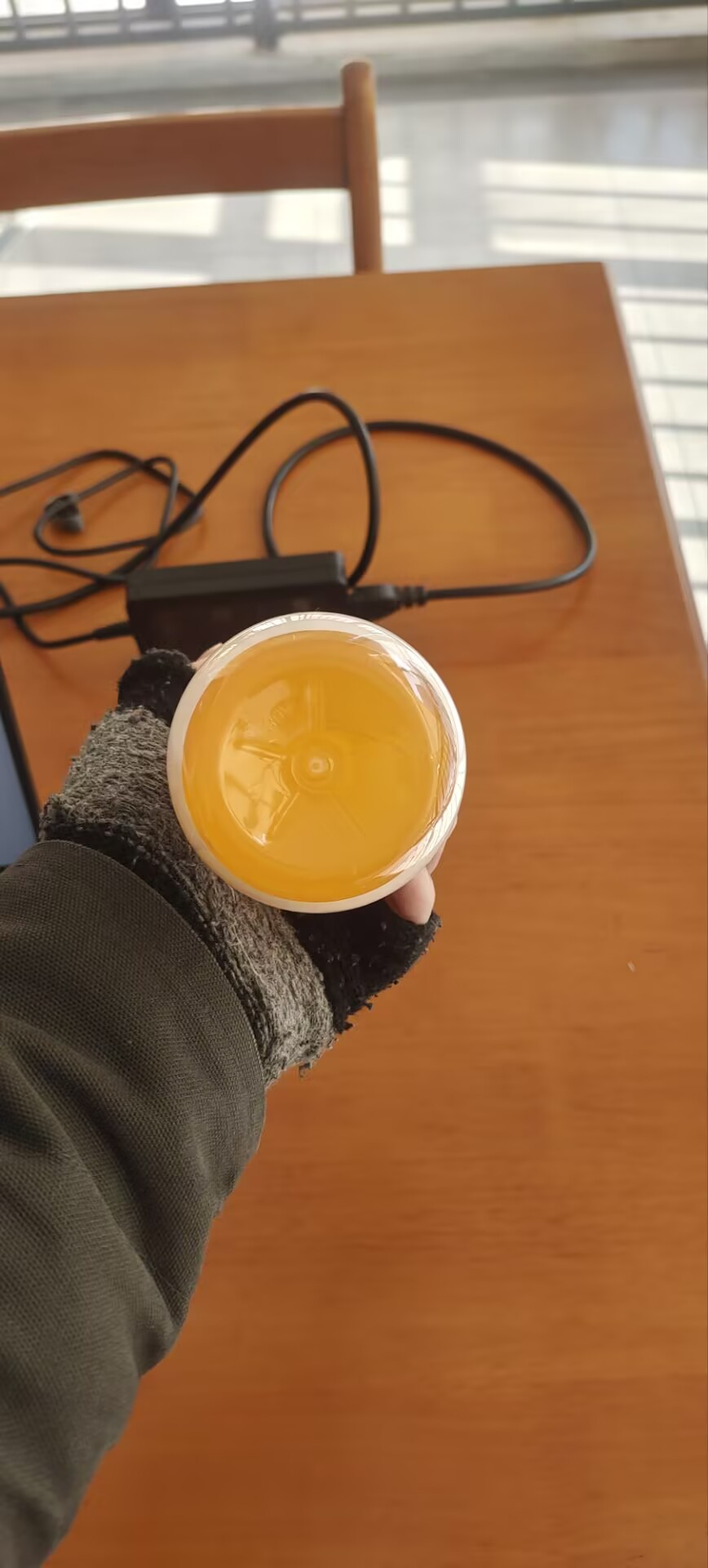redbull: (191, 636, 454, 898)
